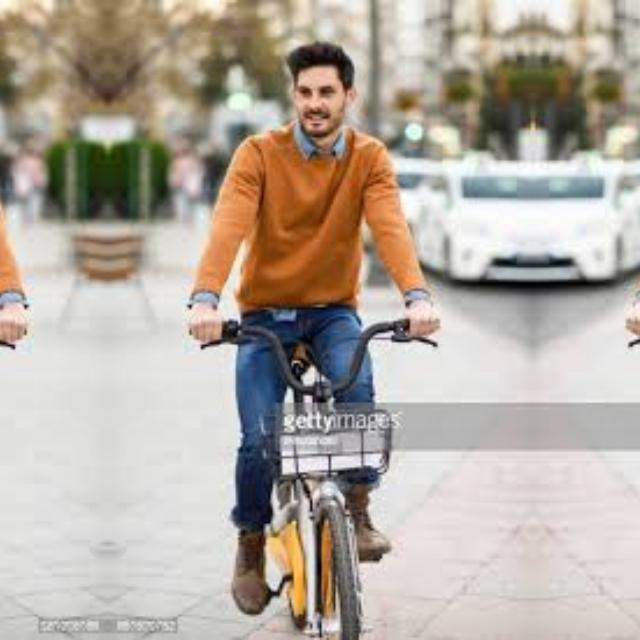obstacle: (195, 302, 443, 640), (0, 302, 19, 639), (623, 302, 640, 639)
